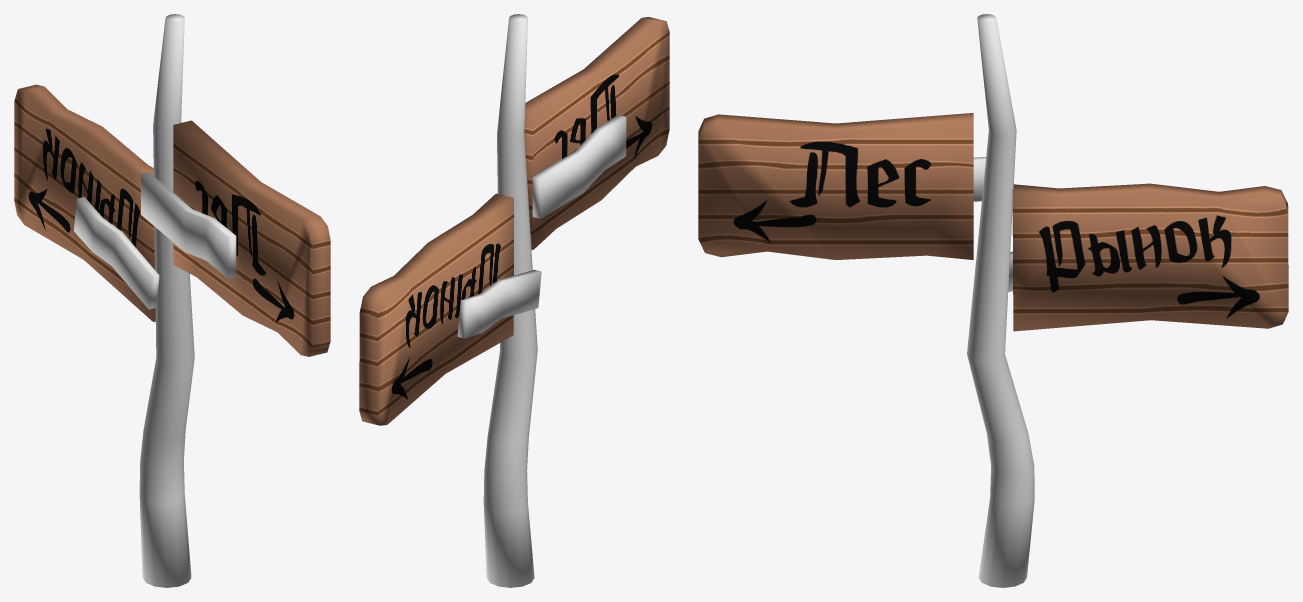
The model's file is tablichka.fbx.
3 renders of one model, left to right at view 1: azimuth 30°, elevation 25°; view 2: azimuth 150°, elevation 25°; view 3: azimuth 270°, elevation 25°, orthographic. The views are drawn at different scales.
Visible parts, largest first — view 1: Cube, Cylinder, Cube.001, Cube.002, Cube.003; view 2: Cube.001, Cylinder, Cube, Cube.002, Cube.003; view 3: Cube.001, Cube, Cylinder.
Part boxes in pixels (x1=…): Cube: x1=173, y1=120, x2=330, y2=356; Cylinder: x1=139, y1=14, x2=194, y2=587; Cube.001: x1=14, y1=84, x2=155, y2=321; Cube.002: x1=141, y1=172, x2=236, y2=278; Cube.003: x1=73, y1=197, x2=159, y2=309; Cube.001: x1=359, y1=193, x2=513, y2=425; Cylinder: x1=483, y1=14, x2=537, y2=587; Cube: x1=524, y1=17, x2=669, y2=249; Cube.002: x1=532, y1=115, x2=626, y2=218; Cube.003: x1=457, y1=269, x2=541, y2=338; Cube.001: x1=1012, y1=183, x2=1288, y2=331; Cube: x1=698, y1=113, x2=973, y2=259; Cylinder: x1=967, y1=14, x2=1034, y2=587.
Bounding box in the file's own units: 74.39 × 809 × 773.
2 materials, 2 textured.
